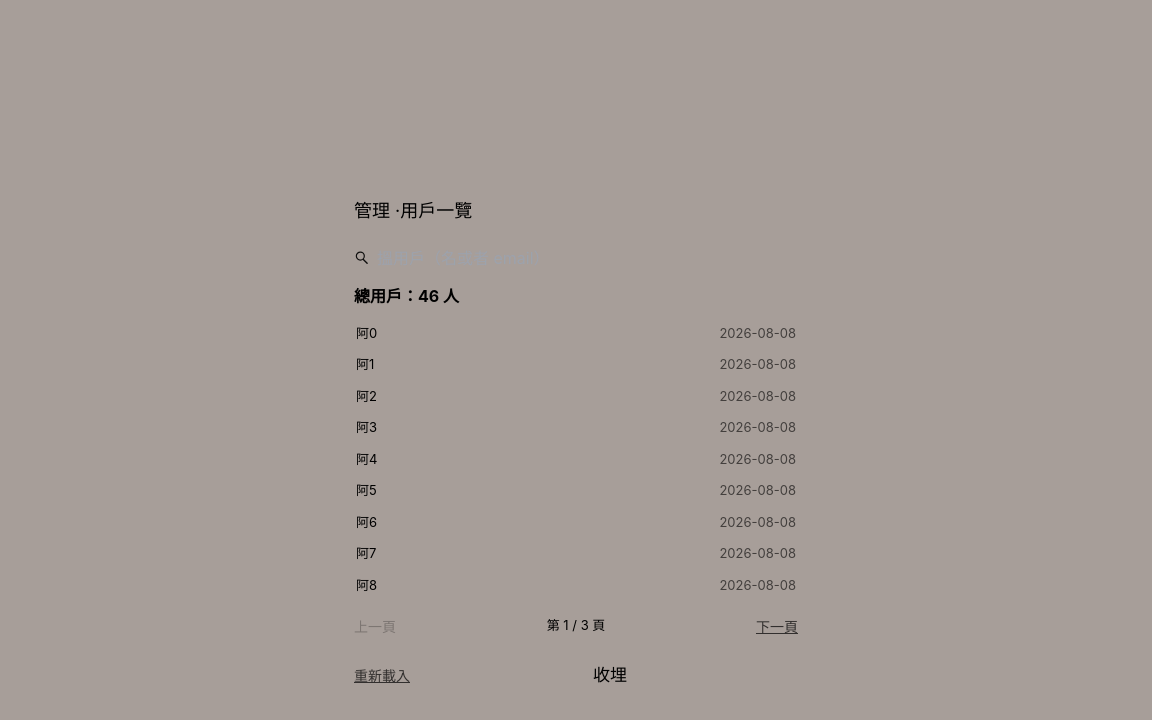
Test case: 下一頁 loads the next slice, and flipping back is served from cache
Expected: the text "阿0" is shown, x1=356 y1=324 x2=377 y2=343
Click the button "下一頁" at (777, 626), box x1=756 y1=616 x2=798 y2=636
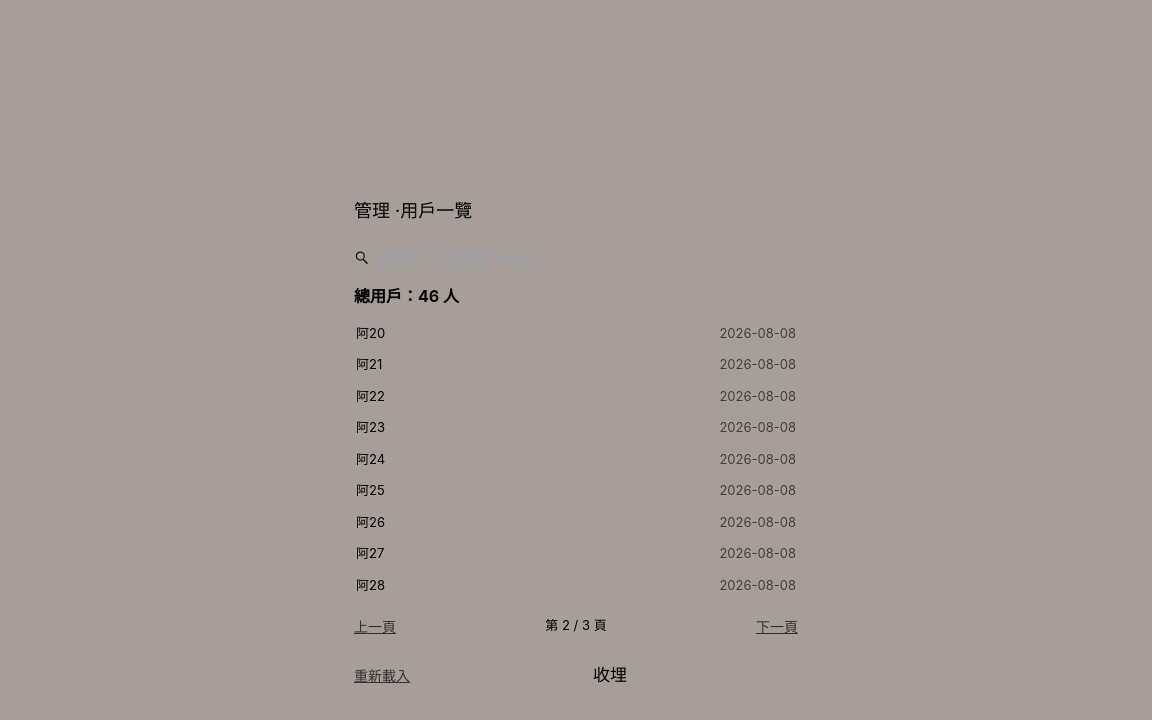
Expected: the text "第 2 / 3 頁" is shown, x1=545 y1=616 x2=607 y2=636
Expected: the text "阿20" is shown, x1=356 y1=324 x2=385 y2=343
Expected: the text "阿0" is gone
Click the button "上一頁" at (375, 626), box x1=354 y1=616 x2=396 y2=636
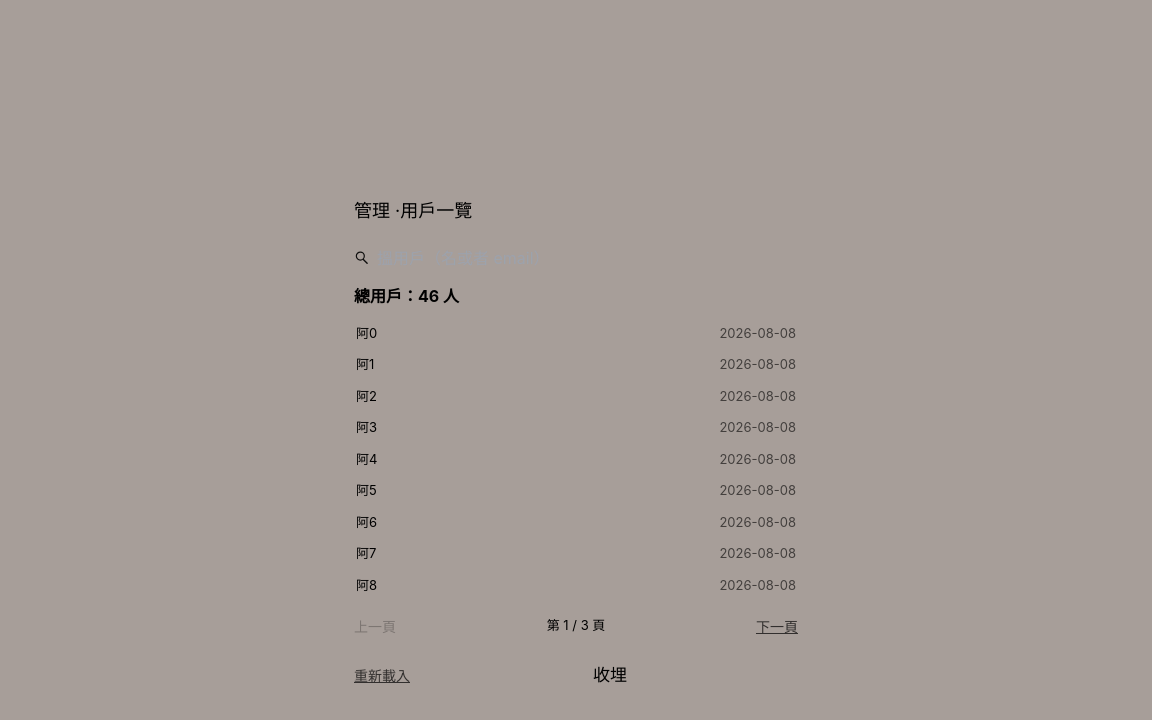
Expected: the text "阿0" is shown, x1=356 y1=324 x2=377 y2=343
